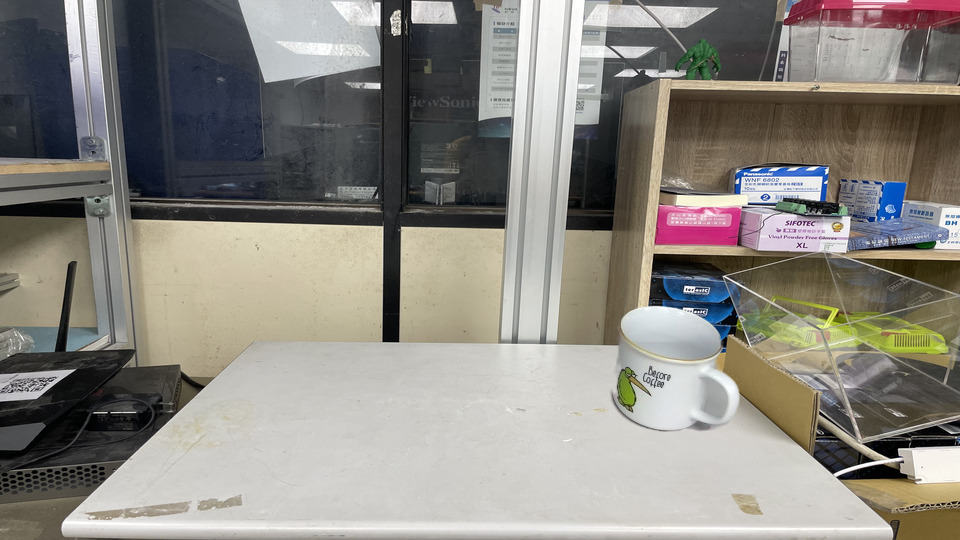columnar: (612, 305, 723, 431)
grasp: (691, 367, 740, 426)
